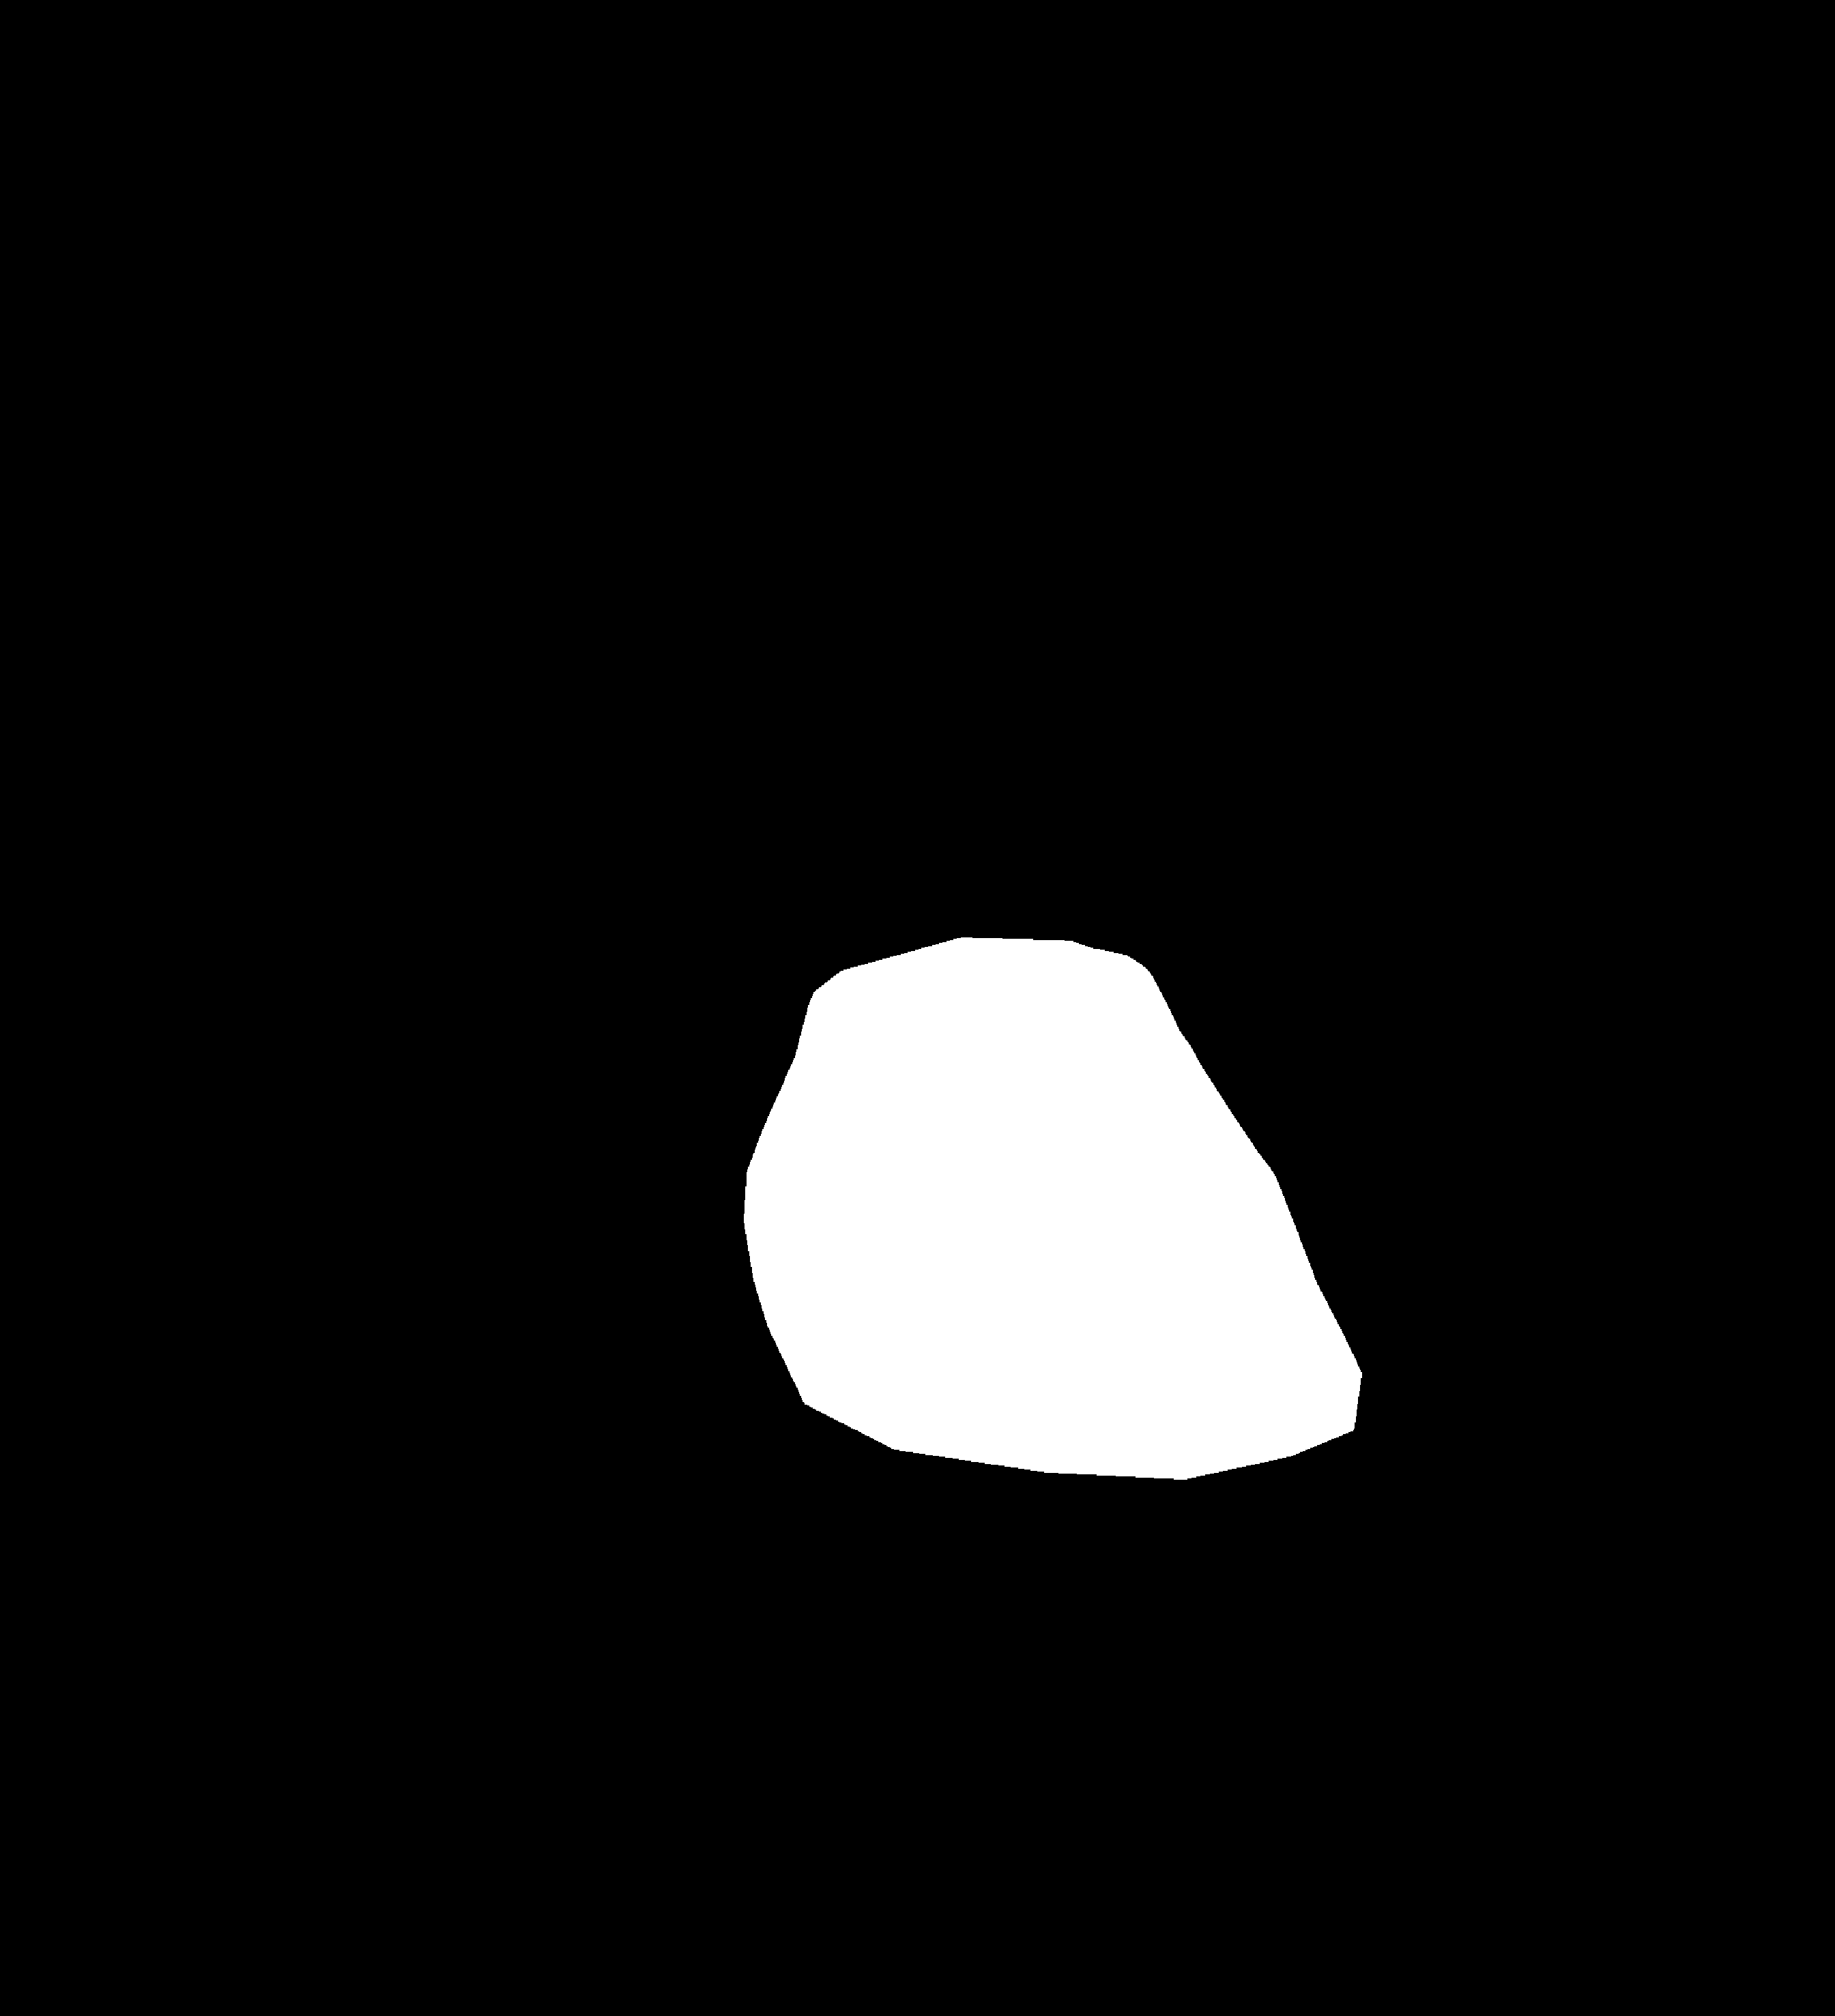heart: (741, 1054, 1333, 1482)
left_lung: (241, 346, 869, 1652)
right_lung: (1013, 342, 1637, 1674)
